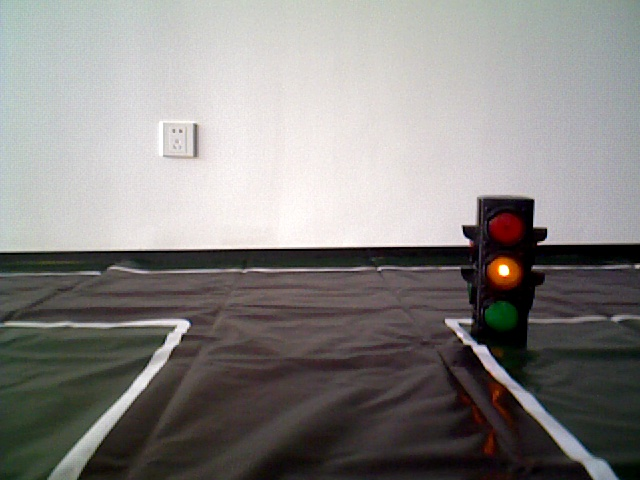yellow: (478, 197, 534, 336)
